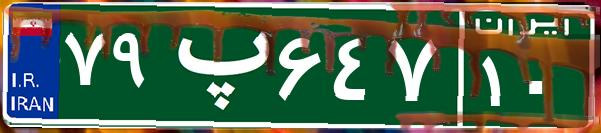0: (525, 38, 570, 115)
1: (475, 38, 525, 113)
4: (330, 28, 385, 110)
6: (273, 28, 330, 110)
7: (385, 28, 445, 110), (57, 26, 110, 107)
9: (110, 28, 158, 105)
پ: (158, 15, 273, 115)
